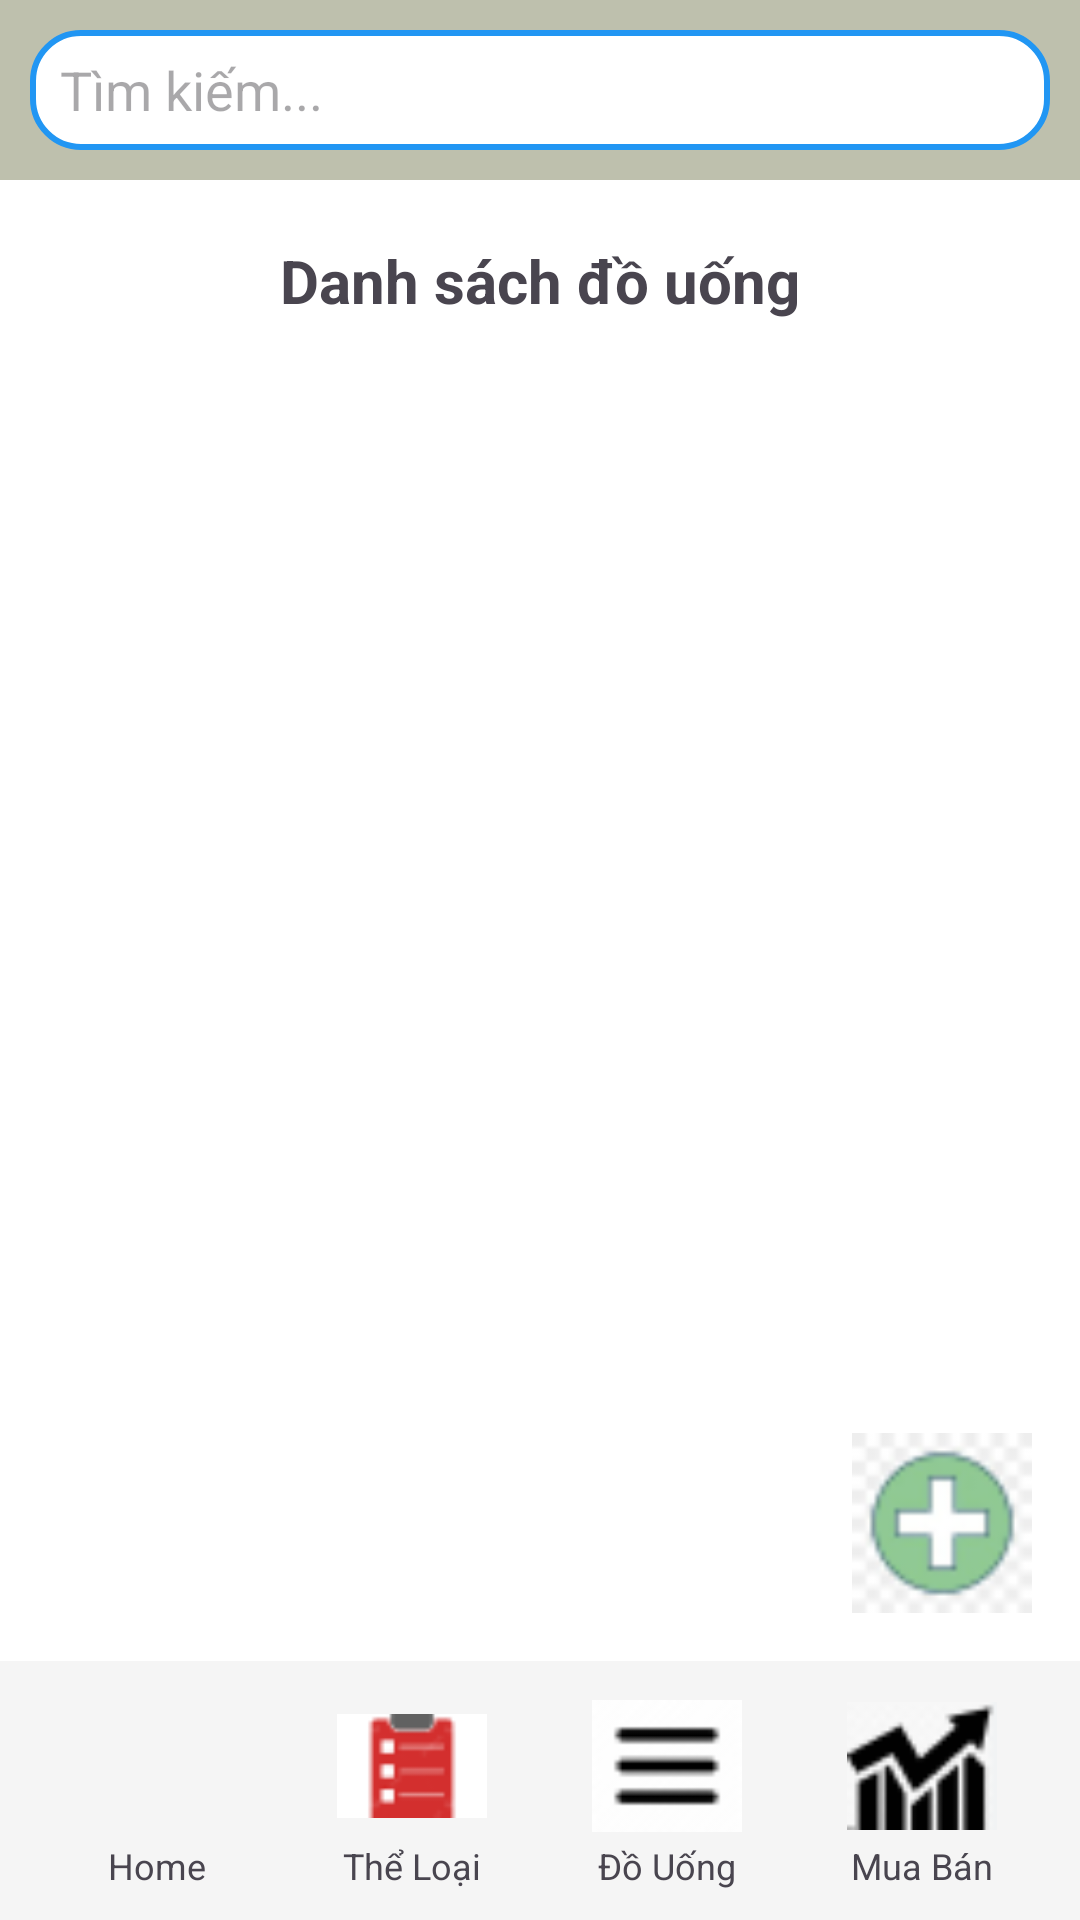

Screen size 1080w x 1920h. Icon name, then its box in pixels as (x1=x1, y1=y1, x2=x2, y2=y2):
Thêm mới: (x1=869, y1=1450, x2=1015, y2=1596)
